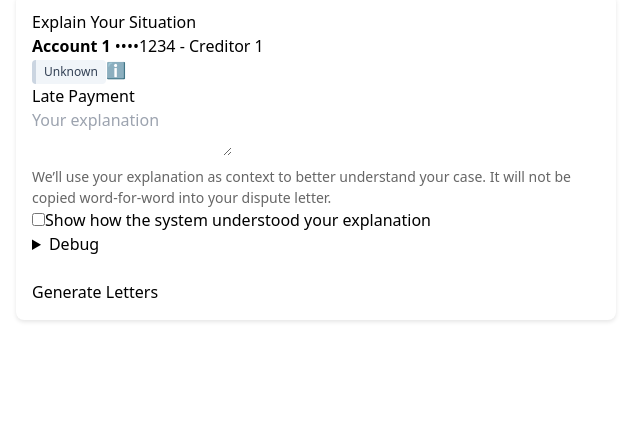
Test: ReviewPage › shows summary box when toggle active
The image size is (633, 424).
What coordinates should you click on to do the following:
click the checkbox labelled "Show how the system understood your explanation"
I would click on:
 (38, 220)
Its box is 32,213 -> 45,226.
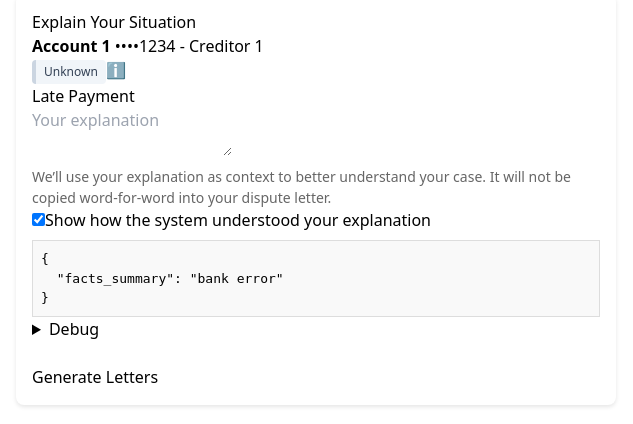
Expected: the text "{ \"facts_summary\": \"bank error\" }" is shown, 32,240 -> 600,316
